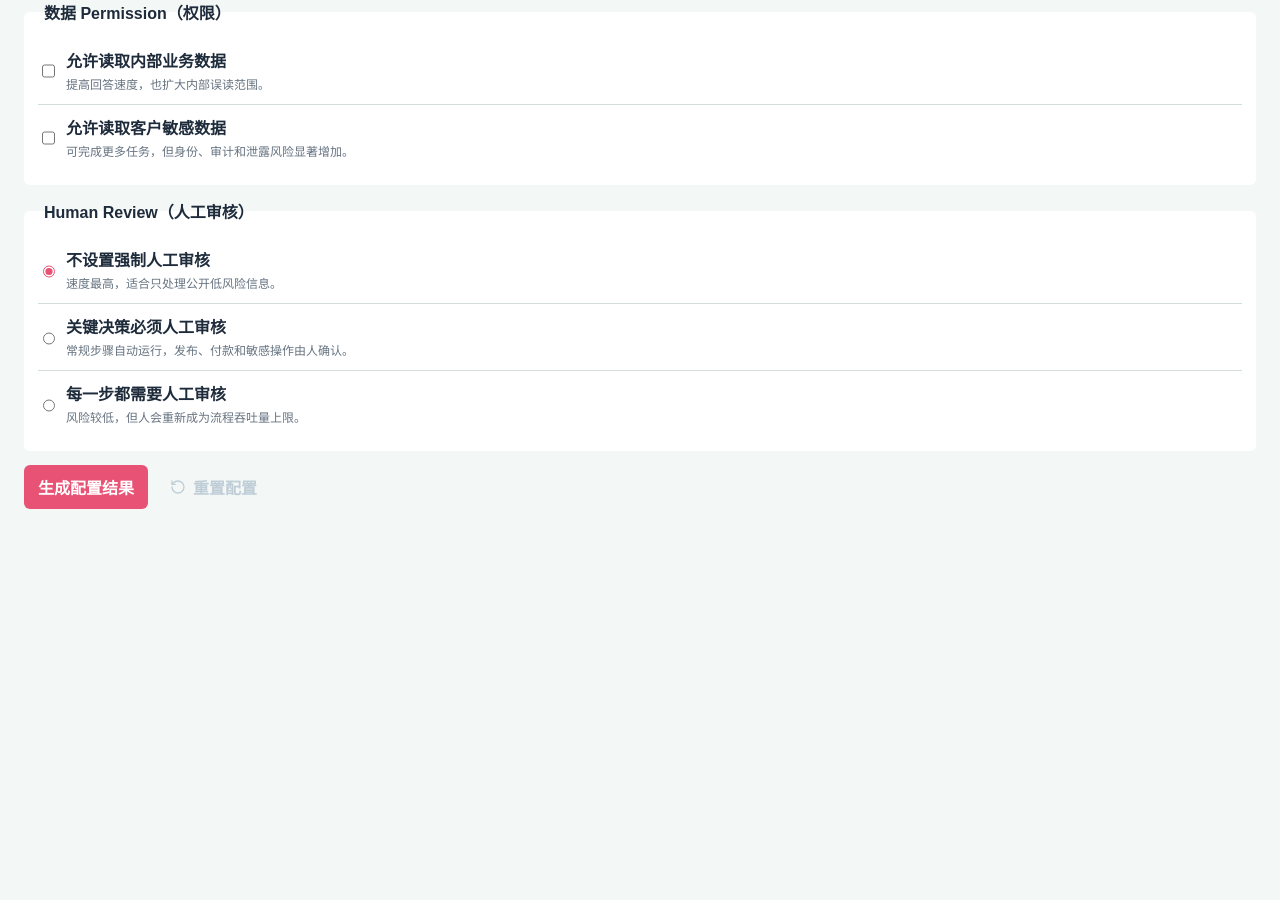
AgentConfigurator › shows the efficiency and risk effect of permissions and human review
Click the checkbox labelled "允许读取内部业务数据": (48, 71) [42,51,55,91]
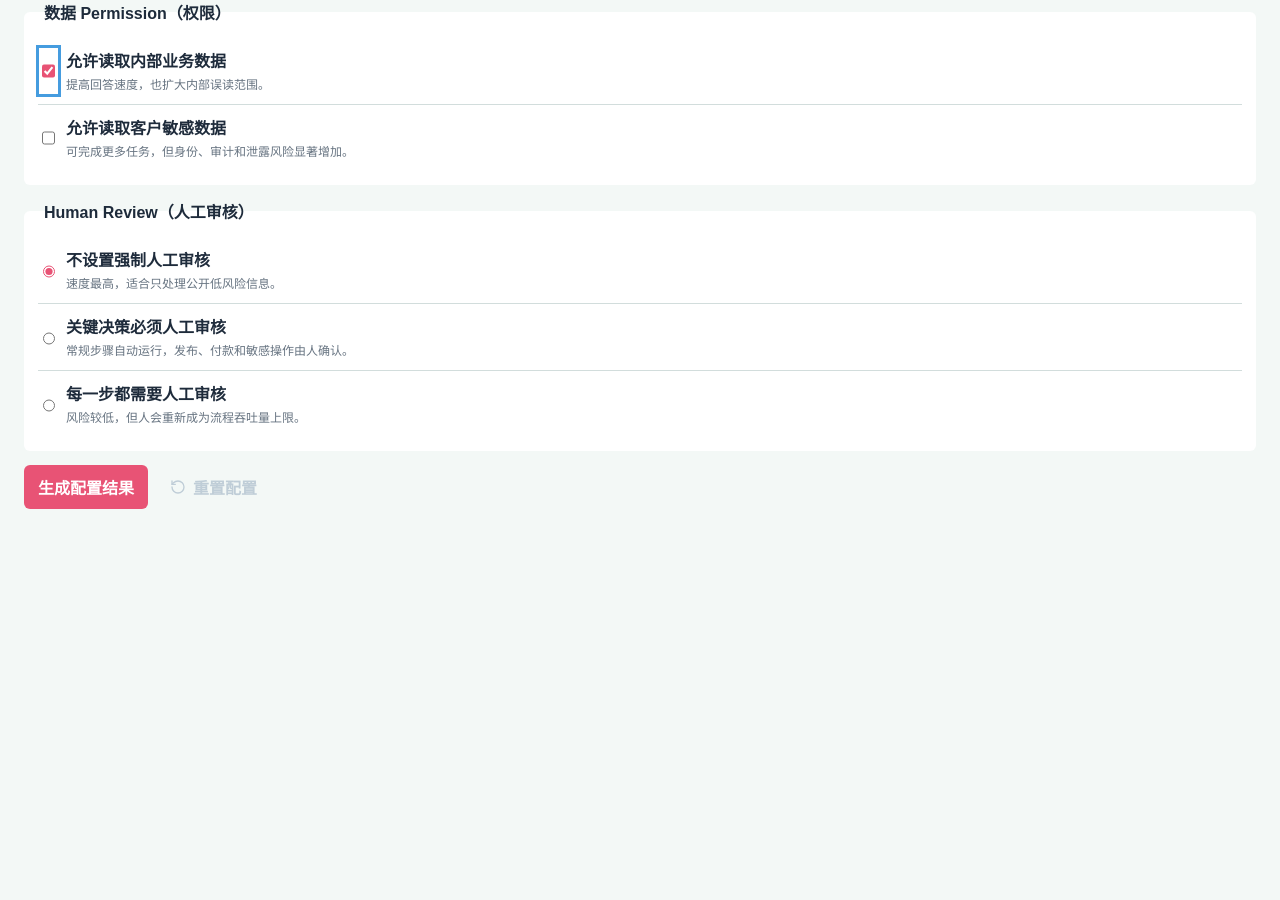
Click the radio button labelled "关键决策必须人工审核": (49, 338) [43,317,55,360]
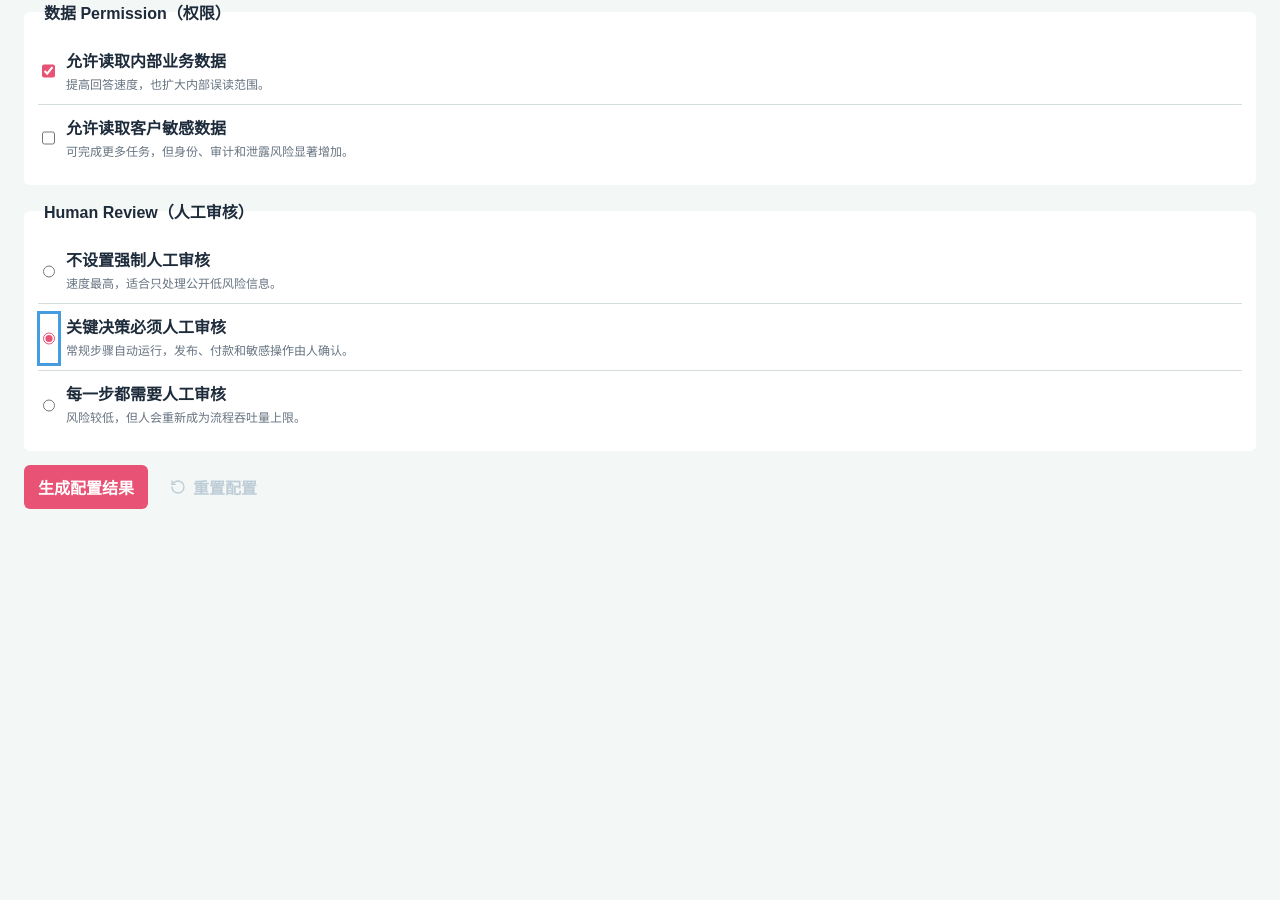
Click the button "生成配置结果": (86, 487) [24,465,148,509]
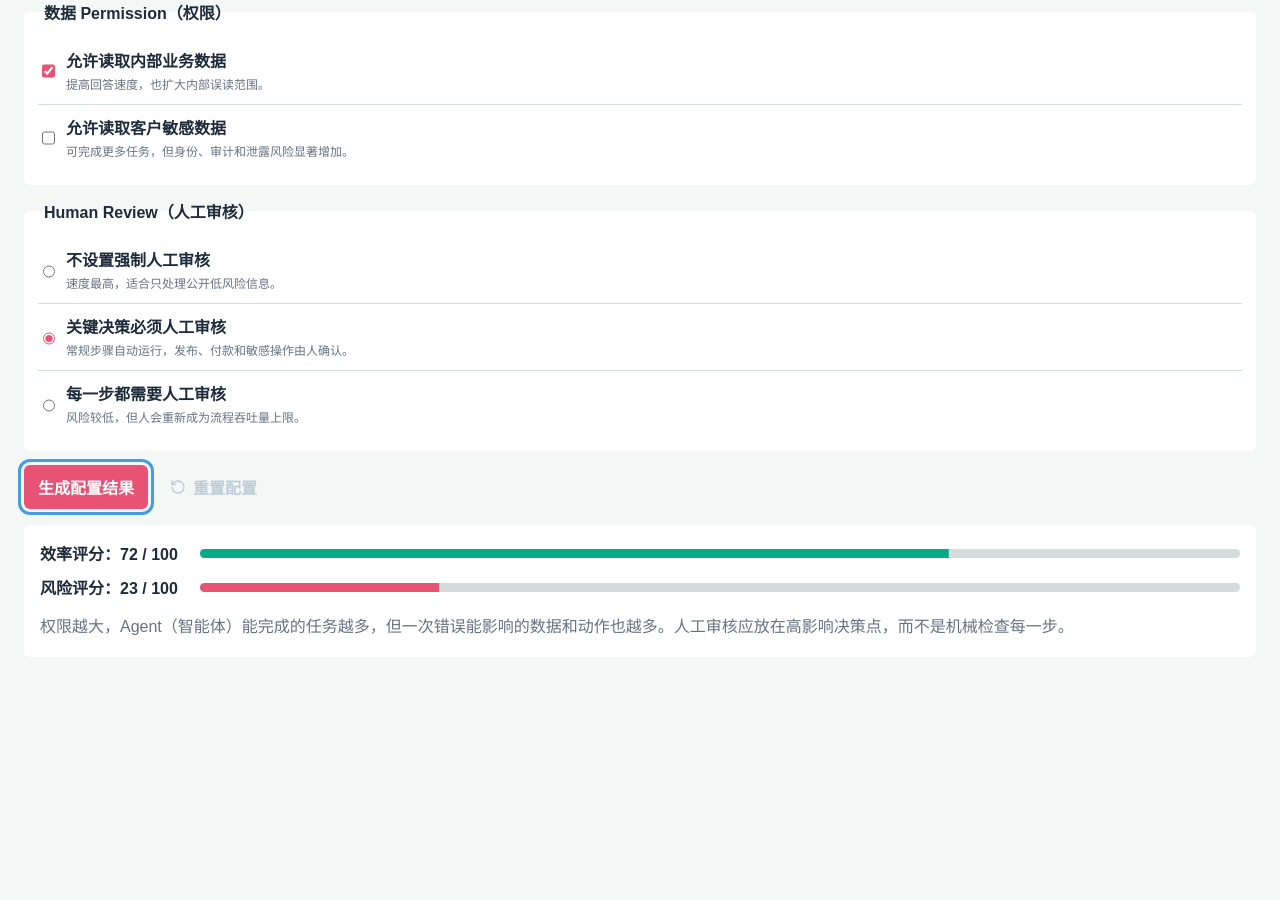
Expected: the button "重置配置" is shown, [156,465,271,509]
Result: the text "效率评分：72 / 100" is shown at [40,541,190,565]
Result: the text "权限越大" is shown at [40,618,1074,635]
